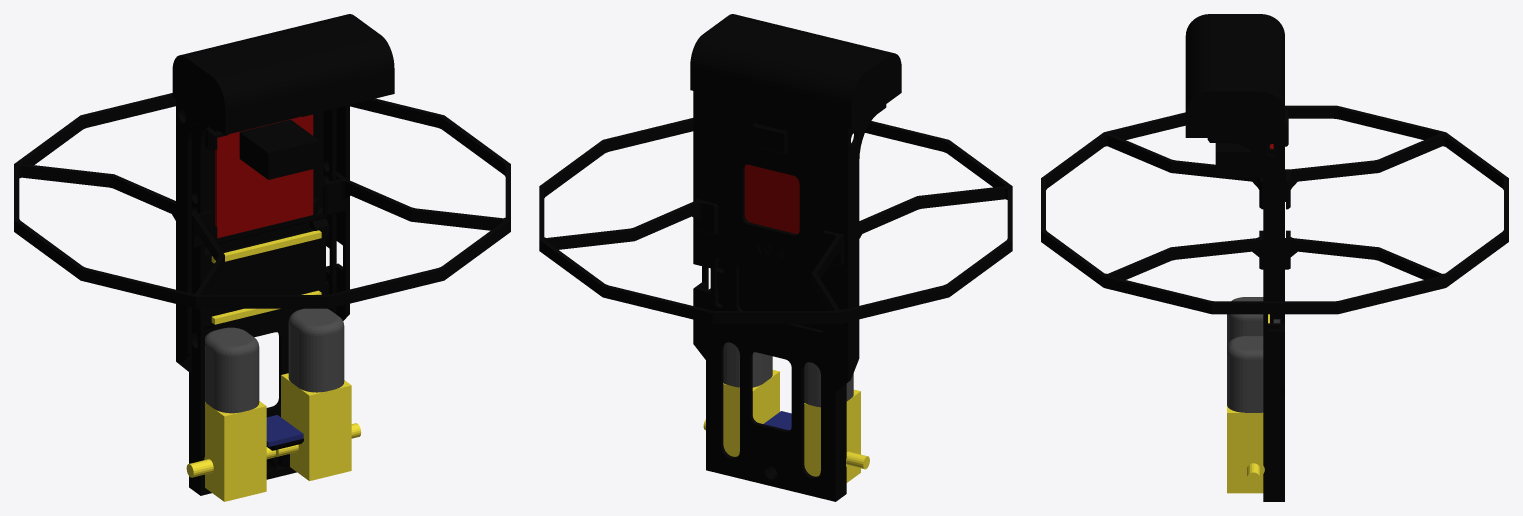
The model's file is Body.dae.
3 views of the same model, side by side, from view 1: azimuth 30°, elevation 25°; view 2: azimuth 150°, elevation 25°; view 3: azimuth 270°, elevation 25° (orthographic). The views are drawn at different scales.
Parts seen in each view (by area): view 1: Body4, Body2, Body1.002, Body1.004, Body1.001, Body1.005, Body1.003, Body1; view 2: Body2, Body4, Body1.002, Body1.004, Body1.003, Body1.005, Body1.001, Body1.006; view 3: Body4, Body1.002, Body2, Body1.004, Body1.001, Body1.005.
Boxes of the visible parts, bbox=[...] form: Body4: bbox=[14, 93, 510, 308]; Body2: bbox=[176, 99, 349, 495]; Body1.002: bbox=[172, 14, 394, 135]; Body1.004: bbox=[275, 308, 361, 480]; Body1.001: bbox=[215, 114, 319, 238]; Body1.005: bbox=[186, 327, 275, 501]; Body1.003: bbox=[205, 228, 325, 324]; Body1: bbox=[266, 415, 303, 446]; Body2: bbox=[693, 91, 886, 501]; Body4: bbox=[539, 118, 1012, 324]; Body1.002: bbox=[690, 14, 901, 129]; Body1.004: bbox=[703, 342, 779, 456]; Body1.003: bbox=[716, 257, 826, 330]; Body1.005: bbox=[804, 362, 869, 482]; Body1.001: bbox=[744, 164, 799, 233]; Body1.006: bbox=[753, 123, 787, 154]; Body4: bbox=[1041, 105, 1508, 314]; Body1.002: bbox=[1185, 14, 1284, 137]; Body2: bbox=[1207, 138, 1284, 501]; Body1.004: bbox=[1227, 336, 1264, 493]; Body1.001: bbox=[1215, 143, 1273, 177]; Body1.005: bbox=[1227, 297, 1280, 346].
Bounding box in the file's own units: 19.32 × 19.32 × 19.04.
